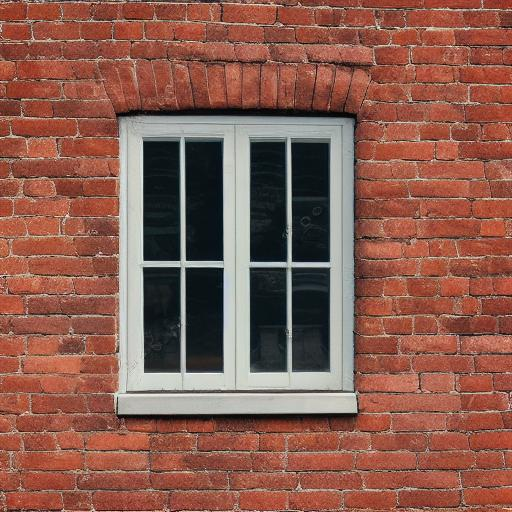Window: (103, 63, 378, 419)
